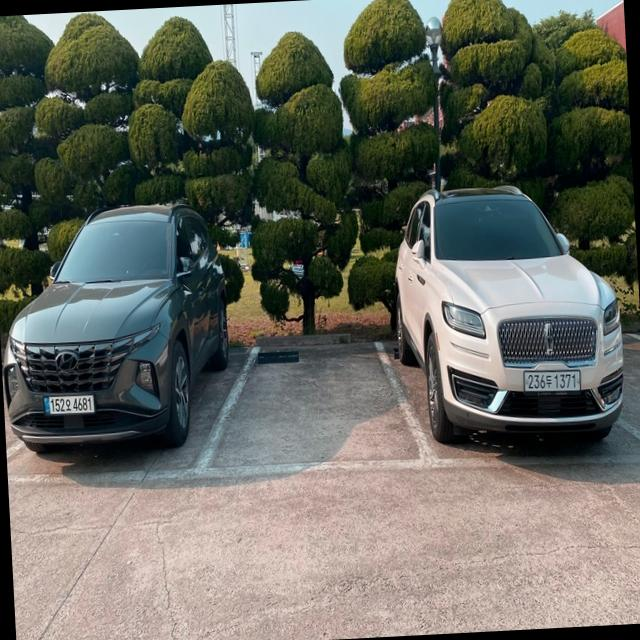car: (385, 178, 627, 446), (0, 201, 237, 459)
free: (189, 335, 446, 484)
